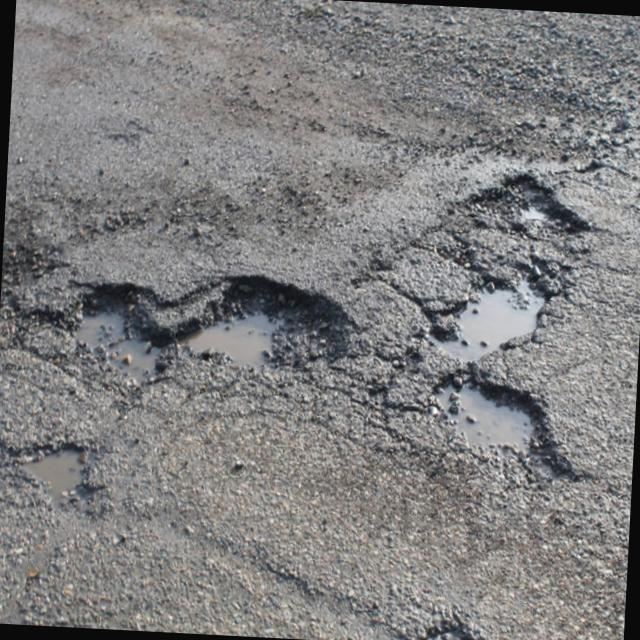bad-road: (0, 258, 362, 406), (414, 257, 586, 481), (463, 167, 593, 244), (0, 430, 104, 512), (414, 621, 488, 640)
